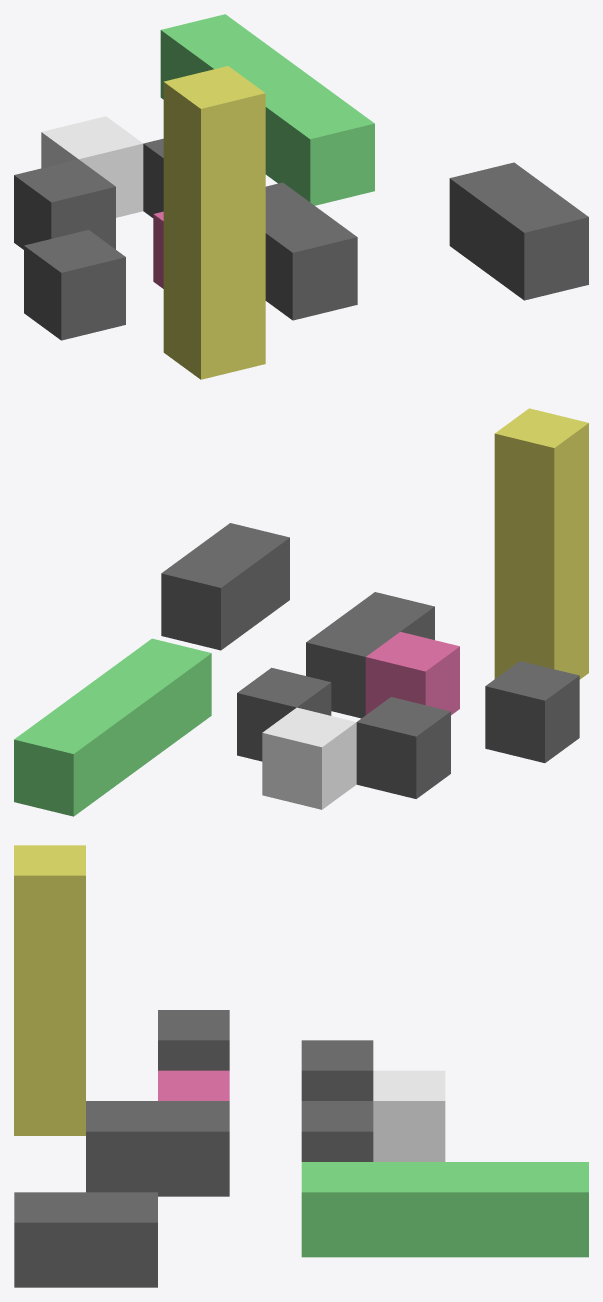
File: lego-blender-1.0.glb
3 views of the same model, one above another, from view 1: azimuth 30°, elevation 25°; view 2: azimuth 150°, elevation 25°; view 3: azimuth 270°, elevation 25° (orthographic). The views are drawn at different scales.
Visible parts, largest first — view 1: Cube.009, Cube.008, Cube.005, Cube.002, Cube, Cube.006, Cube.007, Cube.004, Cube.003, Cube.001; view 2: Cube.009, Cube.008, Cube.005, Cube.007, Cube.002, Cube.006, Cube.001, Cube.003, Cube.004, Cube; view 3: Cube.008, Cube.009, Cube.005, Cube.003, Cube.007, Cube, Cube.004, Cube.006, Cube.002, Cube.001.
Boxes of the visible parts, left/top/right/bottom form: Cube.009: left=163, top=66, right=265, bottom=379; Cube.008: left=160, top=14, right=374, bottom=205; Cube.005: left=449, top=162, right=588, bottom=300; Cube.002: left=24, top=230, right=125, bottom=340; Cube: left=265, top=210, right=357, bottom=320; Cube.006: left=14, top=159, right=115, bottom=249; Cube.007: left=41, top=116, right=143, bottom=217; Cube.004: left=143, top=138, right=163, bottom=217; Cube.003: left=265, top=182, right=319, bottom=222; Cube.001: left=153, top=211, right=163, bottom=288; Cube.009: left=494, top=408, right=588, bottom=679; Cube.008: left=14, top=638, right=211, bottom=816; Cube.005: left=161, top=523, right=289, bottom=650; Cube.007: left=262, top=707, right=356, bottom=809; Cube.002: left=485, top=661, right=579, bottom=762; Cube.006: left=356, top=697, right=450, bottom=798; Cube.001: left=365, top=632, right=459, bottom=715; Cube.003: left=306, top=617, right=399, bottom=718; Cube.004: left=237, top=667, right=331, bottom=761; Cube: left=341, top=592, right=434, bottom=639; Cube.008: left=301, top=1162, right=588, bottom=1257; Cube.009: left=14, top=845, right=85, bottom=1135; Cube.005: left=14, top=1192, right=157, bottom=1287; Cube.003: left=158, top=1101, right=229, bottom=1196; Cube.007: left=373, top=1070, right=445, bottom=1161; Cube: left=86, top=1101, right=157, bottom=1192; Cube.004: left=301, top=1101, right=373, bottom=1161; Cube.006: left=301, top=1040, right=373, bottom=1100; Cube.002: left=158, top=1010, right=229, bottom=1070; Cube.001: left=158, top=1070, right=229, bottom=1100.
Size of the model in its own units: 0.07 by 0.04 by 0.08.
